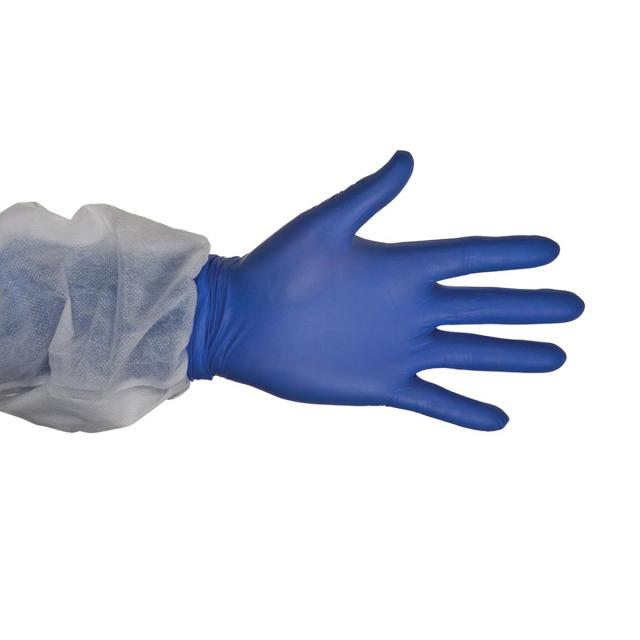Gloves: (199, 145, 600, 439)
